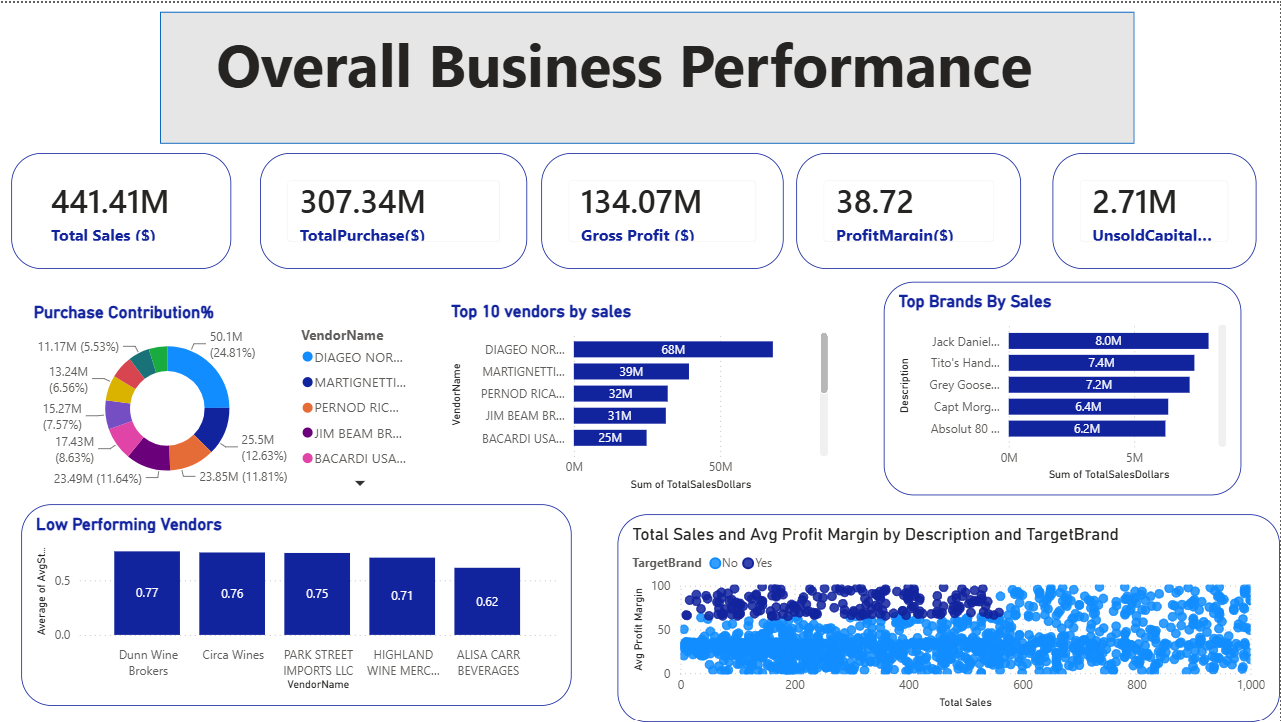

What the dashboard file says about the page in this screenshot:
{"tool":"powerbi","page":{"name":"Page 1","canvas":[1280,720],"ordinal":0},"visuals":[{"type":"cardVisual","fields":{"Data":["Sum(vendor_sales_summary.TotalSalesDollars)"]},"box":[11.2,150,220,116.2],"z":0},{"type":"cardVisual","fields":{"Data":["Sum(vendor_sales_summary.TotalPurchaseDollars)"]},"box":[260,150,267.5,116.2],"z":1000},{"type":"cardVisual","fields":{"Data":["Sum(vendor_sales_summary.GrossProfit)"]},"box":[541.2,150,242.5,116.2],"z":2000},{"type":"shape","box":[160.2,8.6,974.6,132.1],"z":3000},{"type":"textbox","box":[171.2,15.9,891.4,118.6],"z":4000},{"type":"cardVisual","fields":{"Data":["Avg(vendor_sales_summary.ProfitMargin)"]},"box":[796.2,150,225,116.2],"z":5000},{"type":"cardVisual","fields":{"Data":["Sum(vendor_sales_summary.UnsoldCapital)"]},"box":[1052.5,150,203.8,116.2],"z":6000},{"type":"clusteredBarChart","title":"Top Brands By Sales","fields":{"Y":["Sum(vendor_sales_summary.Total Sales ($))"],"Category":["vendor_sales_summary.Description"]},"box":[883.8,278.8,357.5,213.8],"z":7000},{"type":"clusteredColumnChart","title":"Low Performing Vendors","fields":{"Category":["LowTurnoverVendor.VendorName"],"Y":["Avg(LowTurnoverVendor.AvgStockTurnover)"]},"box":[21.2,501.2,550,201.2],"z":9000},{"type":"scatterChart","fields":{"Category":["BrandPerformance.Description"],"Y":["Avg(BrandPerformance.AvgProfitMargin)"],"Series":["BrandPerformance.TargetBrand"],"X":["Sum(BrandPerformance.TotalSales)"]},"box":[617.5,511.8,662.8,208.6],"z":10000},{"type":"donutChart","title":"Purchase Contribution%","fields":{"Category":["PurchaseContribution.VendorName"],"Y":["Sum(PurchaseContribution.TotalPurchaseDollars)"]},"box":[29.3,298.4,392.5,194.4],"z":11000},{"type":"clusteredBarChart","title":"Top 10 vendors by sales","fields":{"Category":["vendor_sales_summary.VendorName"],"Y":["Sum(vendor_sales_summary.TotalSalesDollars)"]},"box":[446,297.8,387,194.9],"z":12001}]}

Visuals, with their boxes in screenshot pixels (x1, y1, x2, y2), scaled from the page's 1280x720 canvas onto the 1281x722 screenshot:
cardVisual - Sum(vendor_sales_summary.TotalSalesDollars): <bbox>11, 150, 231, 267</bbox>
cardVisual - Sum(vendor_sales_summary.TotalPurchaseDollars): <bbox>260, 150, 528, 267</bbox>
cardVisual - Sum(vendor_sales_summary.GrossProfit): <bbox>542, 150, 784, 267</bbox>
shape: <bbox>160, 9, 1136, 141</bbox>
textbox: <bbox>171, 16, 1063, 135</bbox>
cardVisual - Avg(vendor_sales_summary.ProfitMargin): <bbox>797, 150, 1022, 267</bbox>
cardVisual - Sum(vendor_sales_summary.UnsoldCapital): <bbox>1053, 150, 1257, 267</bbox>
"Top Brands By Sales" clusteredBarChart: <bbox>884, 280, 1242, 494</bbox>
"Low Performing Vendors" clusteredColumnChart: <bbox>21, 503, 572, 704</bbox>
scatterChart - BrandPerformance.Description x Avg(BrandPerformance.AvgProfitMargin): <bbox>618, 513, 1280, 721</bbox>
"Purchase Contribution%" donutChart: <bbox>29, 299, 422, 494</bbox>
"Top 10 vendors by sales" clusteredBarChart: <bbox>446, 299, 834, 494</bbox>
